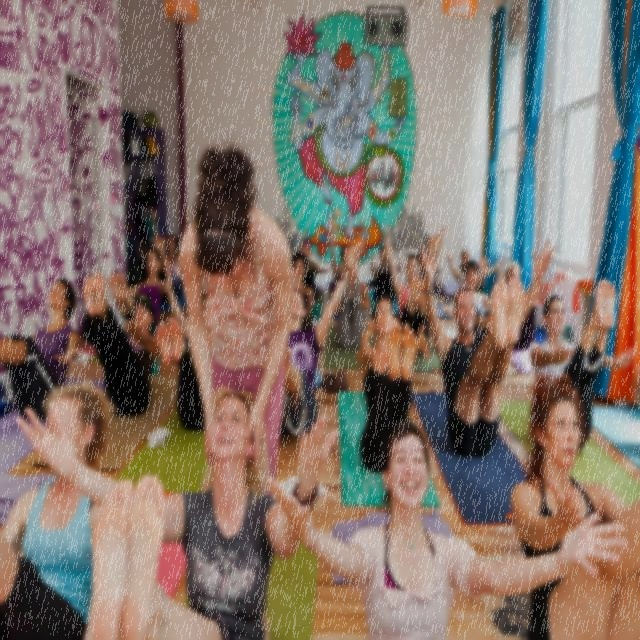pessoa: (13, 382, 340, 640), (265, 416, 629, 640), (176, 140, 296, 640), (510, 368, 640, 640), (0, 381, 118, 640), (416, 241, 526, 461), (530, 278, 636, 452), (279, 237, 366, 437), (354, 293, 432, 475), (0, 272, 81, 421), (81, 270, 161, 418), (154, 257, 216, 432), (382, 222, 448, 356), (493, 259, 568, 350), (103, 245, 170, 338), (440, 259, 494, 340), (148, 206, 190, 305), (333, 246, 371, 350), (328, 216, 366, 309), (446, 248, 507, 290), (371, 244, 404, 304), (302, 239, 330, 303), (292, 252, 316, 321), (418, 236, 442, 302), (168, 257, 213, 292)
